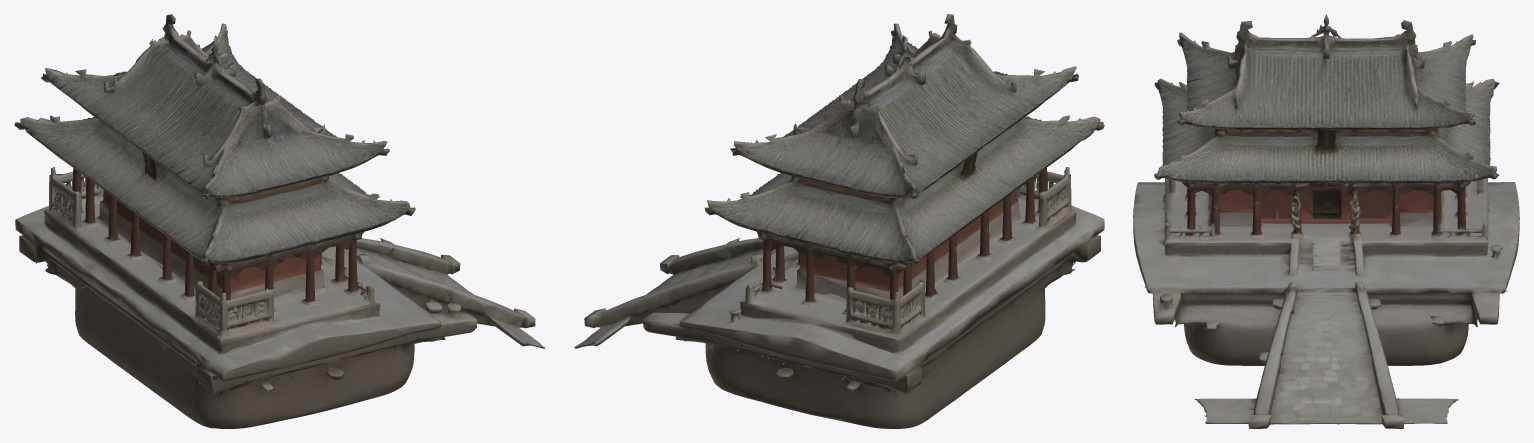
File: building-jinci.glb
The picture shows the model from 3 angles, left to right: view 1: azimuth 30°, elevation 25°; view 2: azimuth 150°, elevation 25°; view 3: azimuth 270°, elevation 25°; orthographic projection. The views are drawn at different scales.
Parts seen in each view (by area): view 1: node_956f4279-d4ea-423e-a1a1-3434cb4e143d; view 2: node_956f4279-d4ea-423e-a1a1-3434cb4e143d; view 3: node_956f4279-d4ea-423e-a1a1-3434cb4e143d.
Part boxes in pixels (x1,y1,x2,y2): node_956f4279-d4ea-423e-a1a1-3434cb4e143d: (14,14,545,428); node_956f4279-d4ea-423e-a1a1-3434cb4e143d: (574,14,1104,428); node_956f4279-d4ea-423e-a1a1-3434cb4e143d: (1133,14,1519,428).
Size of the model in its own units: 1 by 0.8051 by 0.9589.
1 material, 1 textured.
